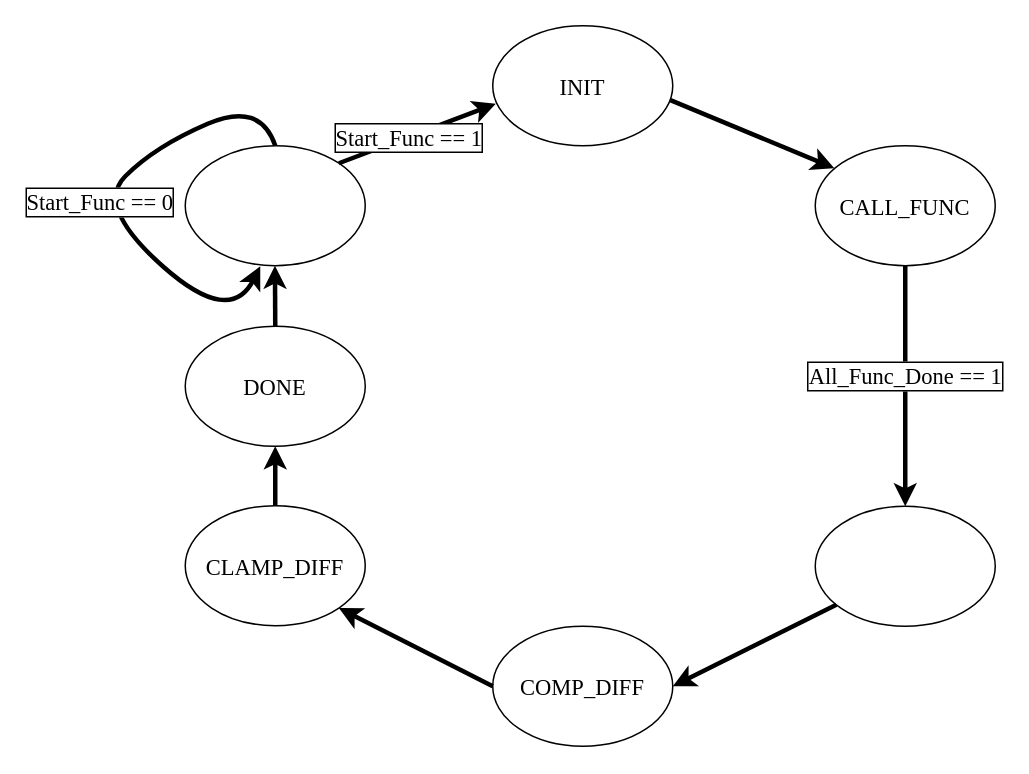
This 1029x774 diagram has some shape labels left out. The shapes that lost their labels are listed below. From the top down, each one's centre as x and y in pixels, then its label:
point 274,205: IDLE
point 904,565: COMP_GRAD
